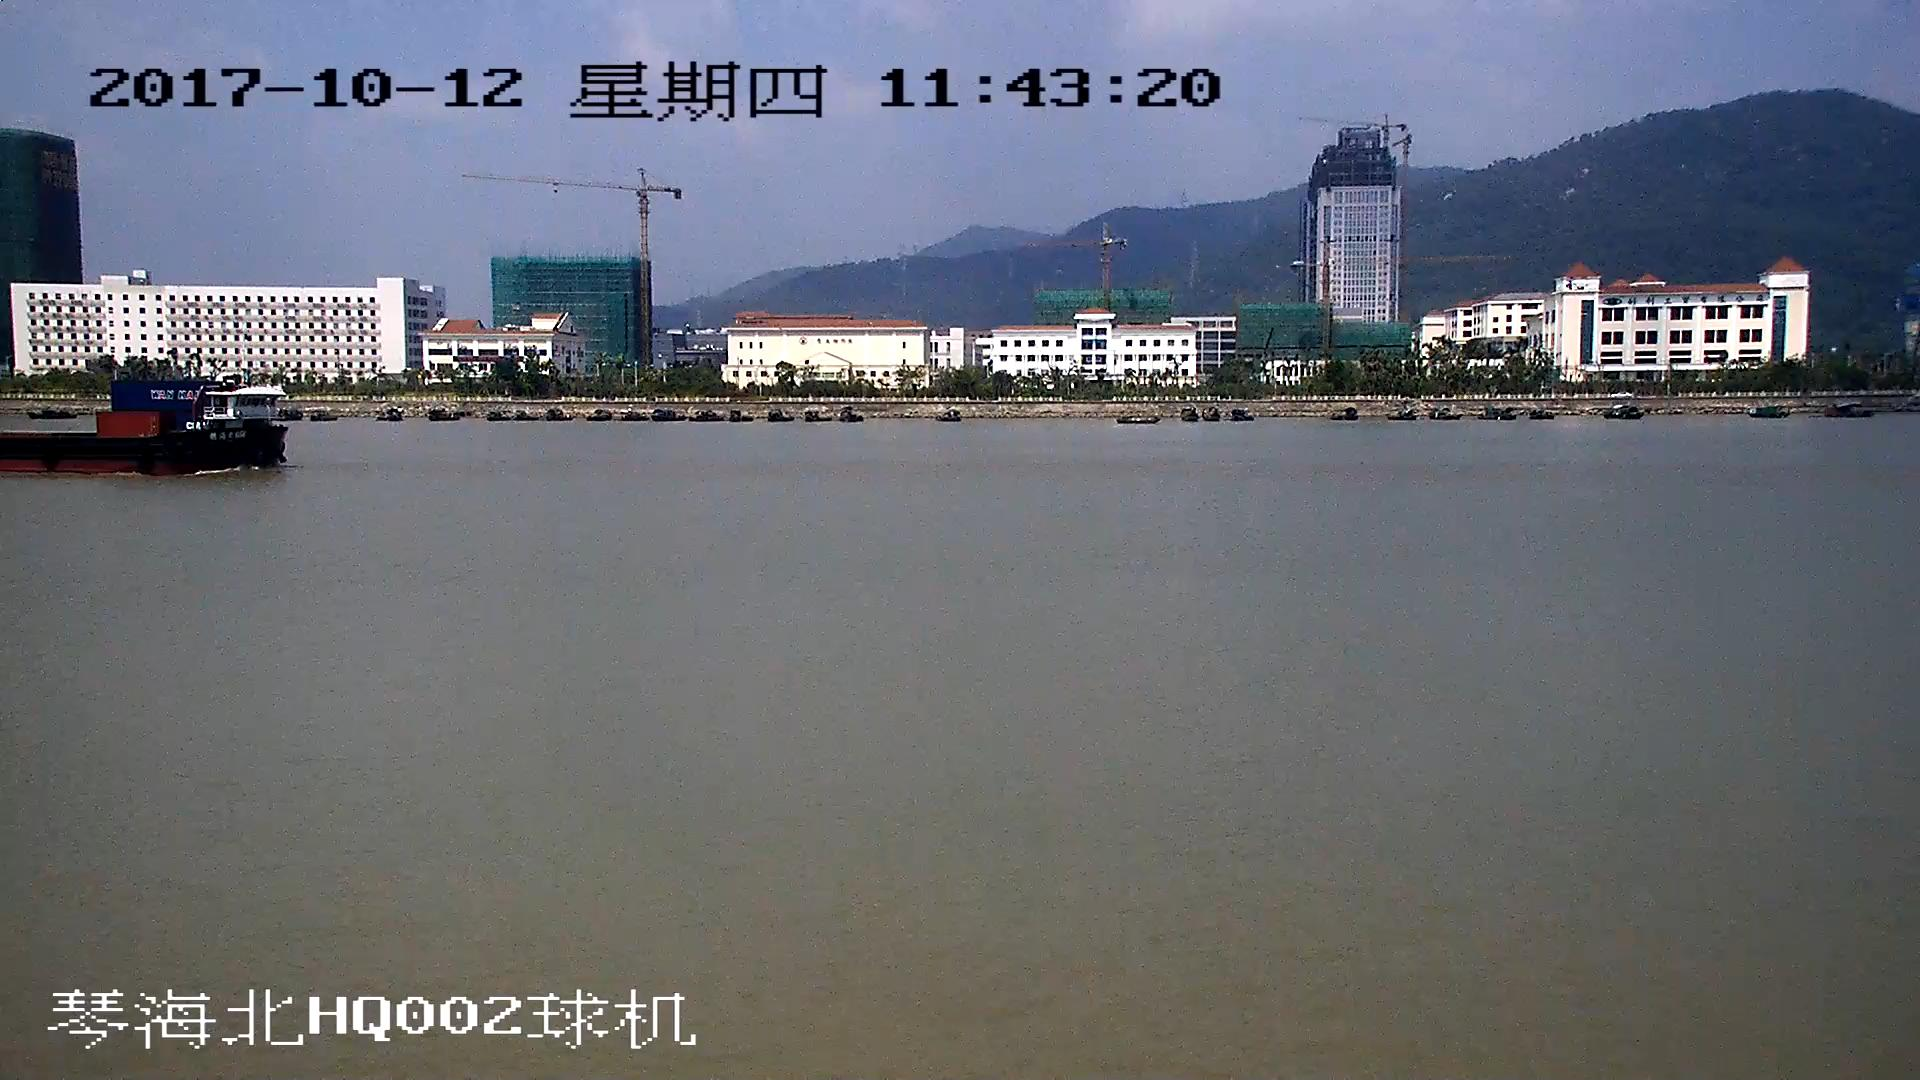container ship: (1, 376, 289, 476)
